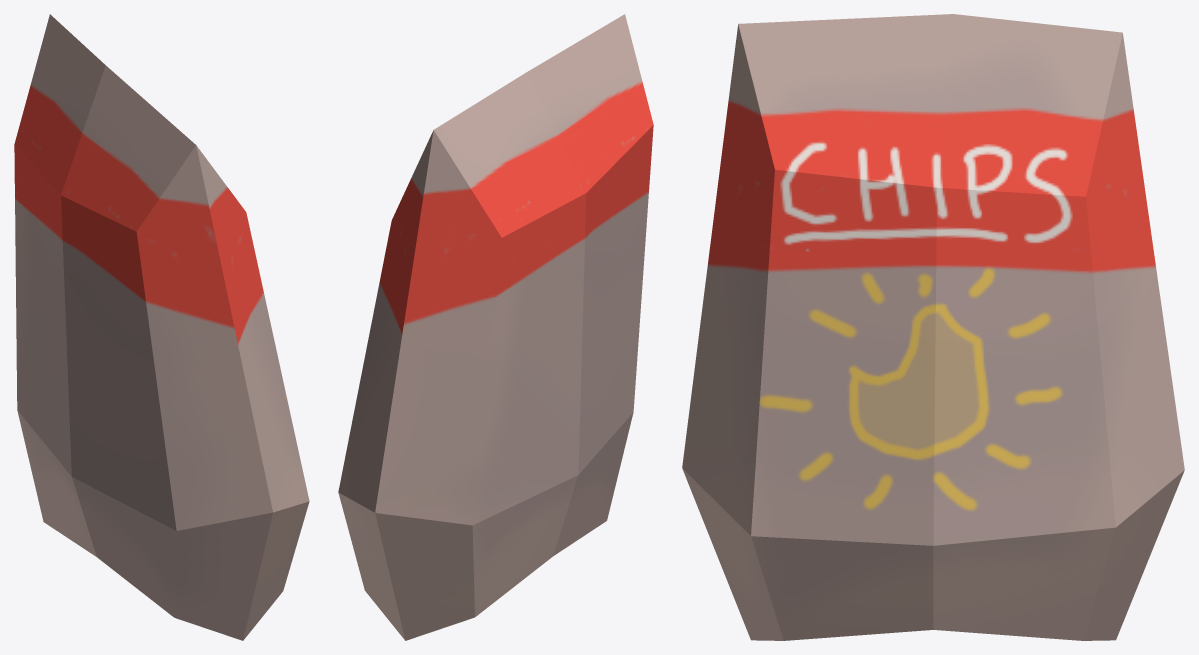
Rendered from chips.fbx.
3 renders of one model, left to right at view 1: azimuth 30°, elevation 25°; view 2: azimuth 150°, elevation 25°; view 3: azimuth 270°, elevation 25°, orthographic. The views are drawn at different scales.
Parts seen in each view (by area): view 1: Body; view 2: Body; view 3: Body.
Part boxes in pixels (x1,y1,x2,y2): Body: (14, 14, 309, 640); Body: (338, 14, 653, 640); Body: (682, 14, 1184, 640).
Size of the model in its own units: 85.02 by 221 by 168.
Materials: 1 (1 with a texture image).
